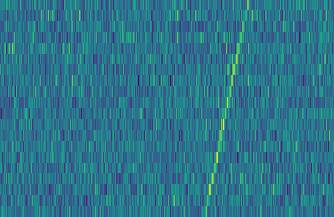signal: (201, 0, 255, 217)
